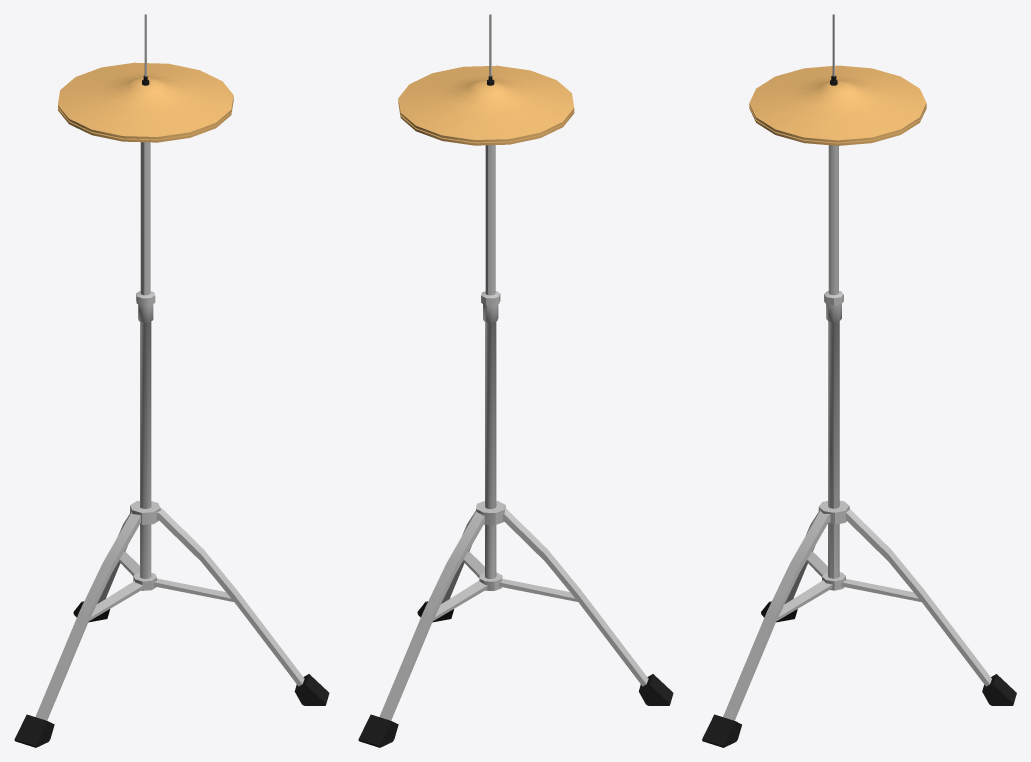
File: SM_Cymball_4k_2.fbx
The picture shows the model from 3 angles, left to right: view 1: azimuth 30°, elevation 25°; view 2: azimuth 150°, elevation 25°; view 3: azimuth 270°, elevation 25°; orthographic projection.
Parts seen in each view (by area): view 1: Cymball_4k_2; view 2: Cymball_4k_2; view 3: Cymball_4k_2.
Boxes of the visible parts, <box> form: Cymball_4k_2: <box>14,14,329,747</box>; Cymball_4k_2: <box>358,14,673,747</box>; Cymball_4k_2: <box>702,14,1016,747</box>.
Bounding box in the file's own units: 49.05 × 111 × 47.13.
1 material, 1 textured.
